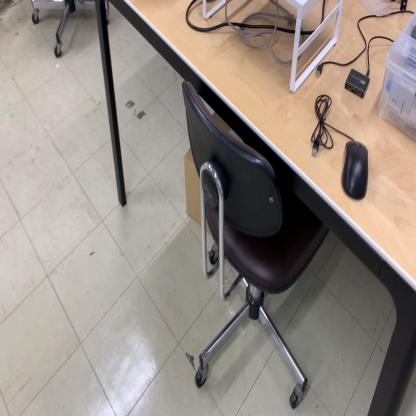chair: (180, 76, 330, 408)
